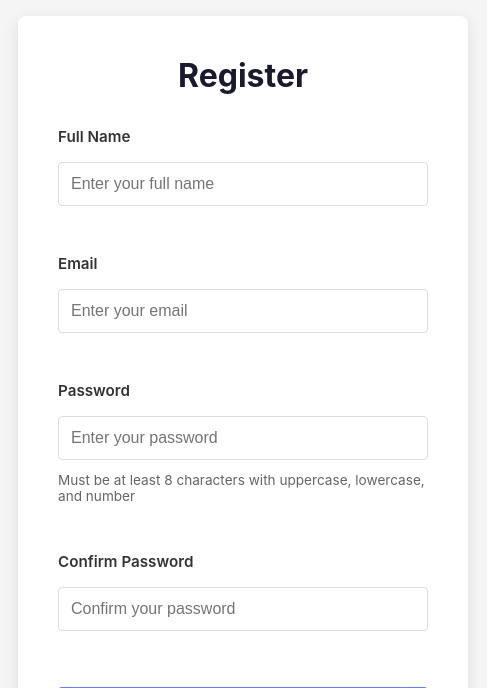
Scenario: RegisterForm › validates password requires uppercase
Step 1. Type "Test User" into the field labelled "Full Name" → (243, 184), box [58,162,428,206]
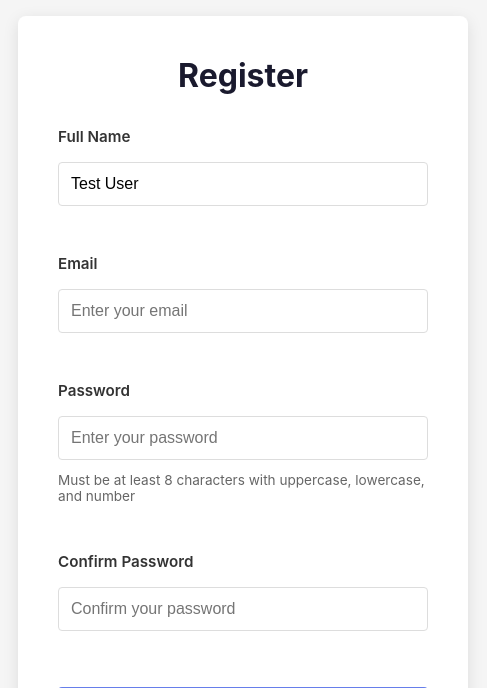
Step 2. Type "test@example.com" into the field labelled "Email" → (243, 311), box [58,289,428,333]
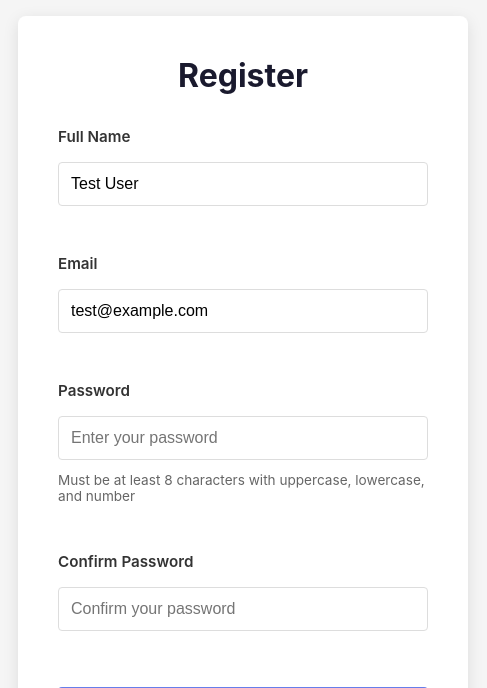
Step 3. Type "password123" into the password field labelled "Password" → (243, 438), box [58,416,428,460]
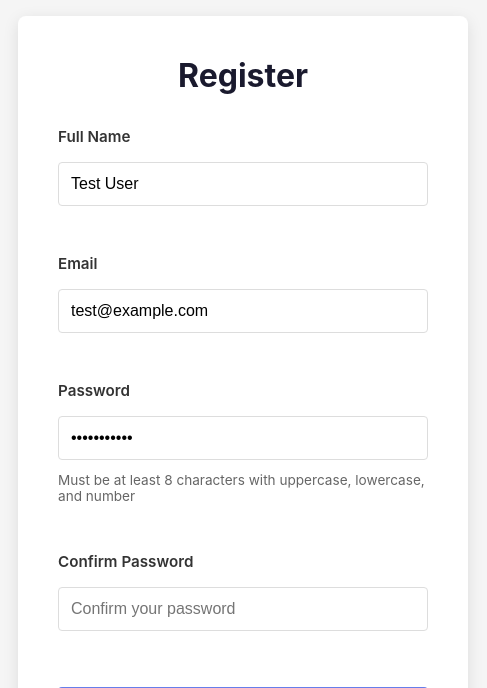
Step 4. Type "password123" into the password field labelled "Confirm Password" → (243, 609), box [58,587,428,631]
(page scrolled)
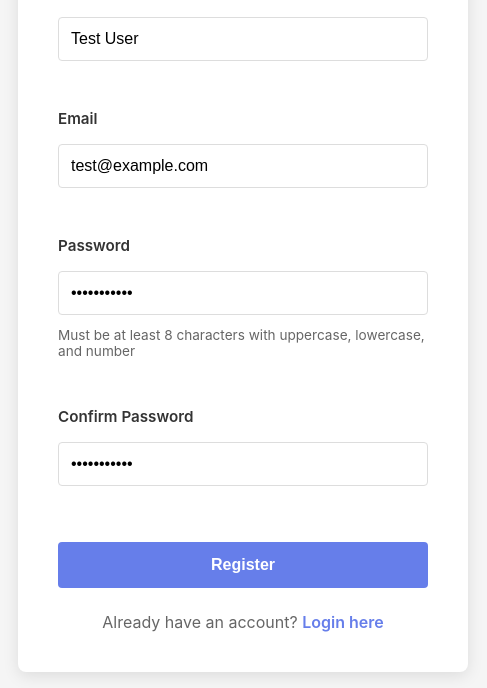
Step 5. Click the button "Register" → click(243, 565), box [58,542,428,588]
(page scrolled)
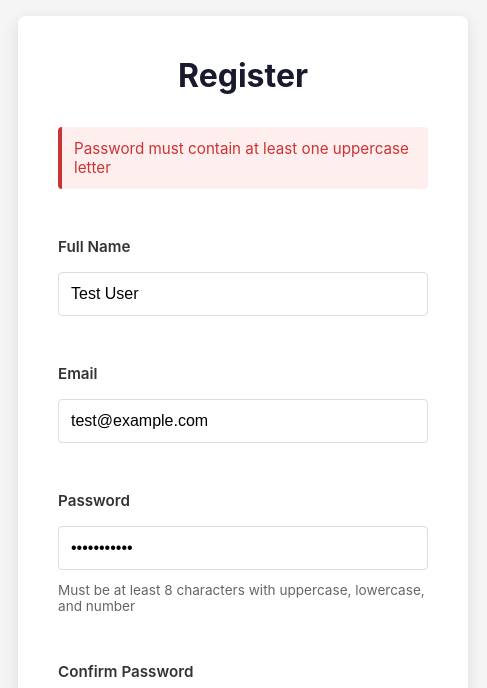
Expected: the text "Password must contain at least one uppercase letter" is shown, [58,127,428,189]
